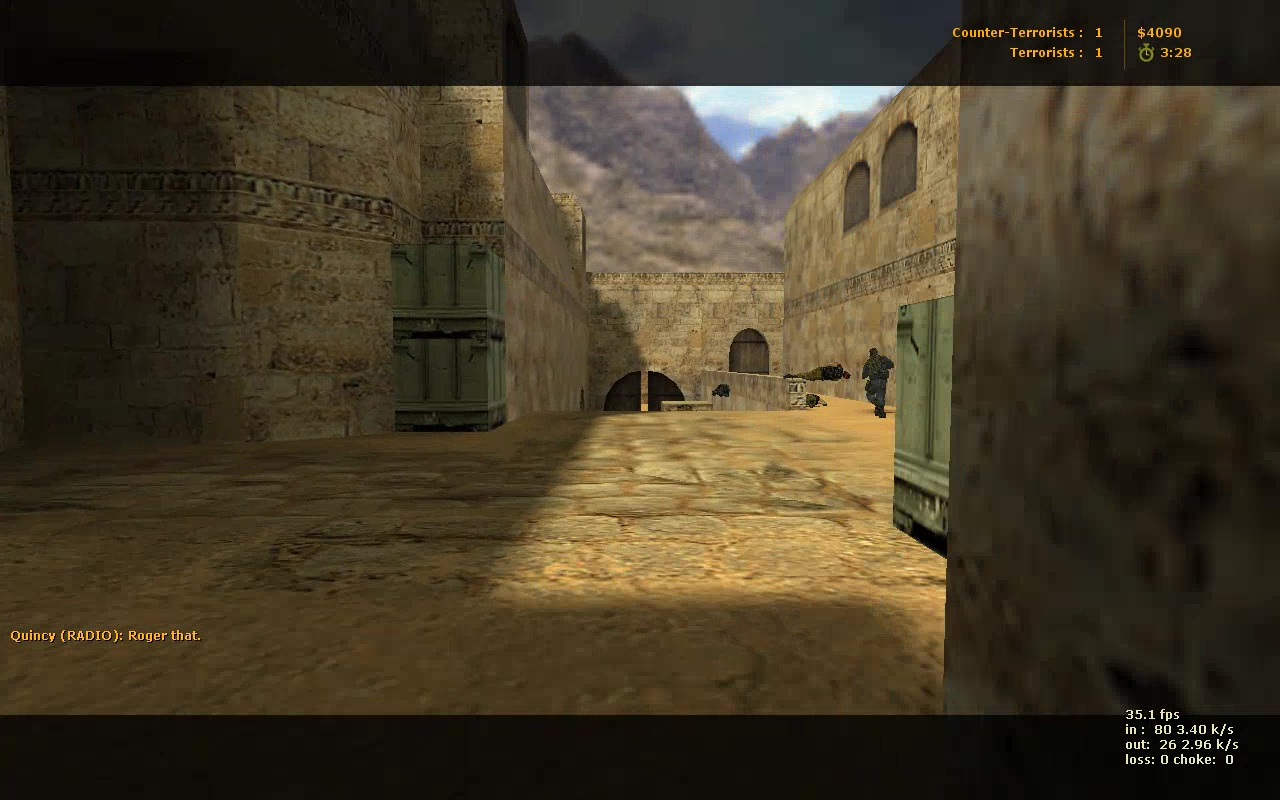ct: (864, 347, 892, 417)
dead: (783, 364, 853, 384), (805, 394, 828, 404)
